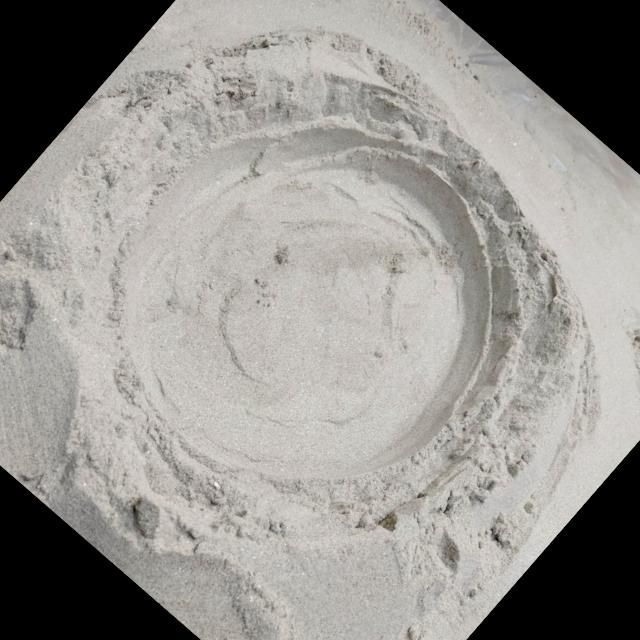C40: (126, 127, 492, 479)
